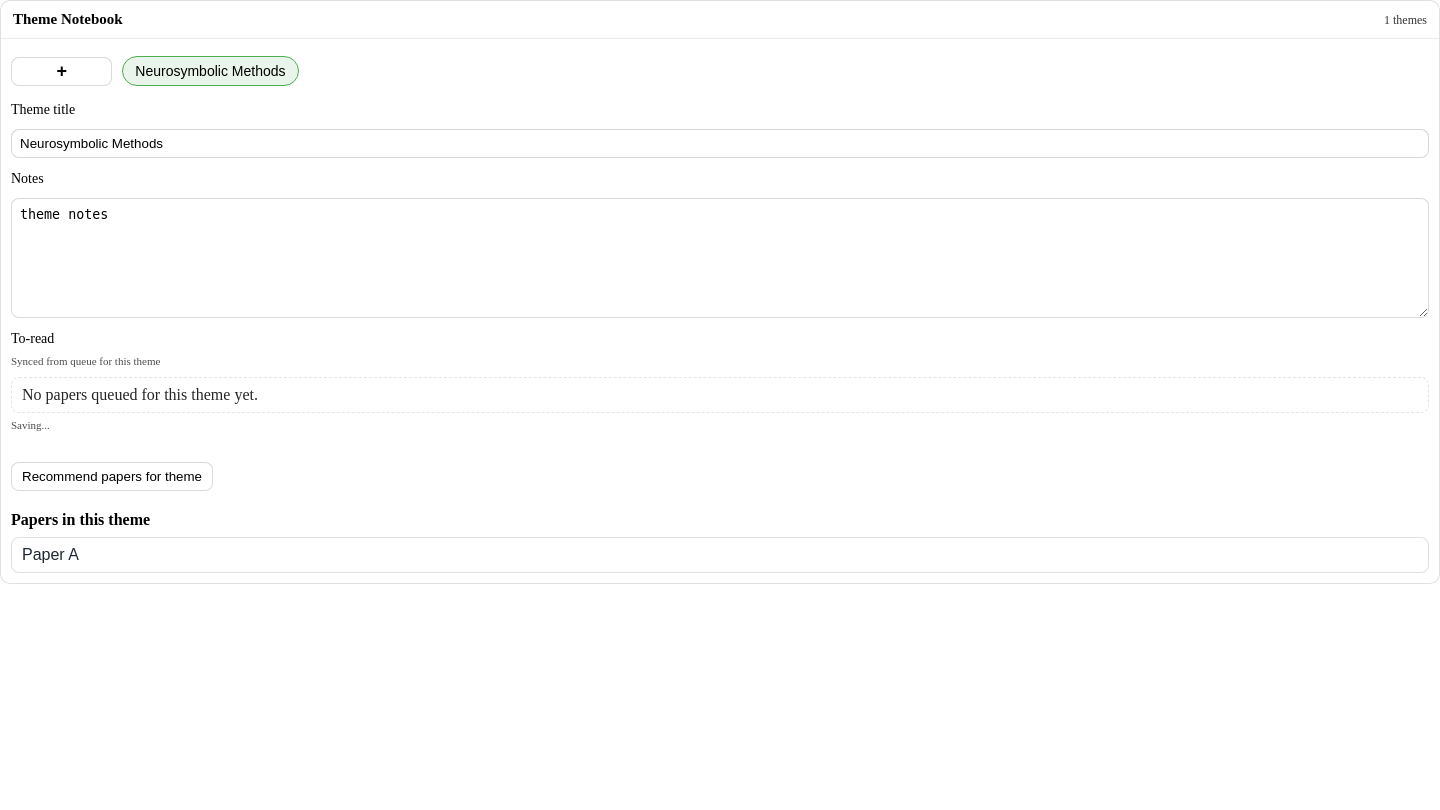
Test: ThemeNotebook recommendations › requests recommendations for selected theme
The width and height of the screenshot is (1440, 810).
Click the button "Recommend papers for theme". click: (112, 476)
box: [11, 462, 213, 491]
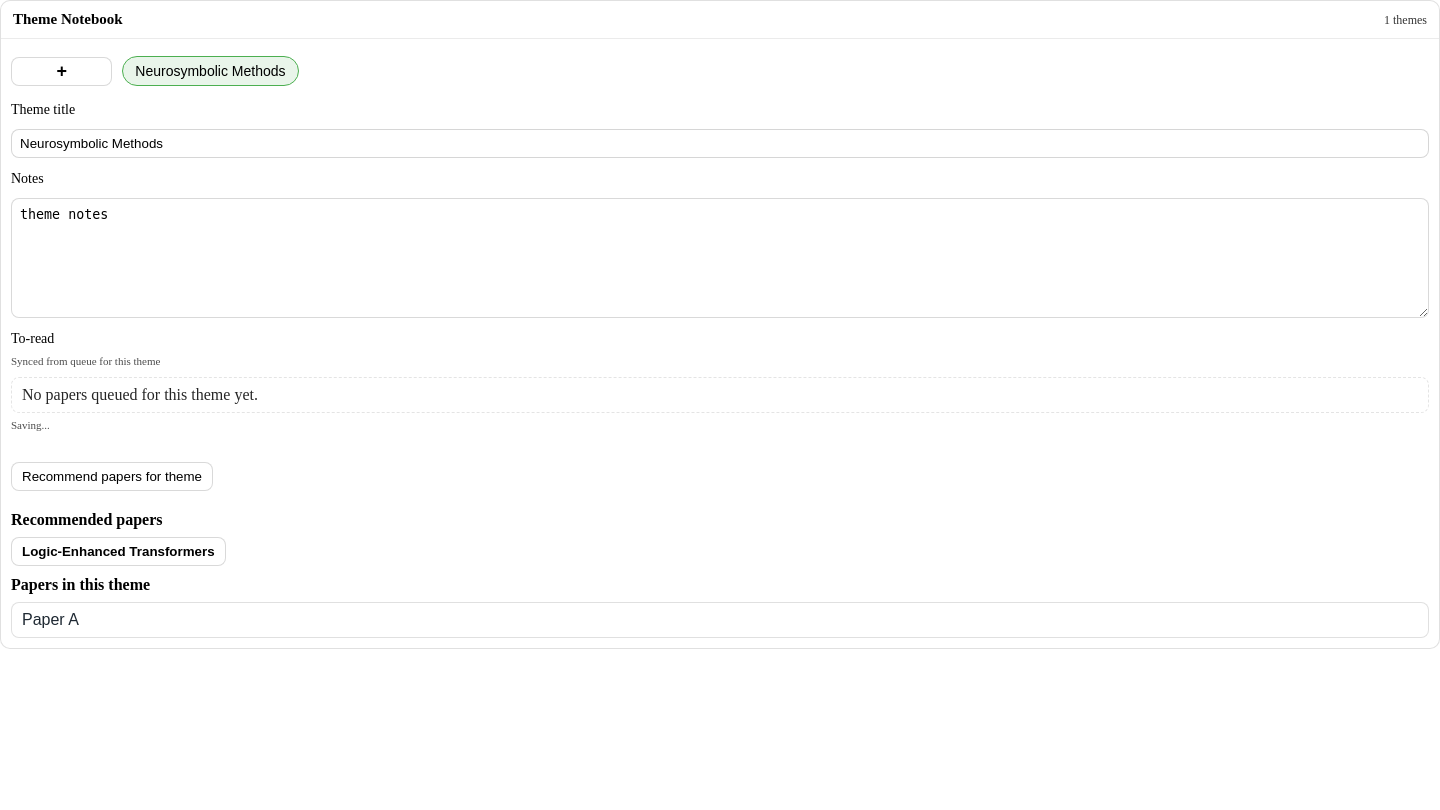
Check: the text "Logic-Enhanced Transformers" is shown, box [22, 544, 215, 559]
